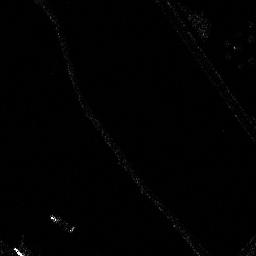ship: (49, 214, 74, 233)
